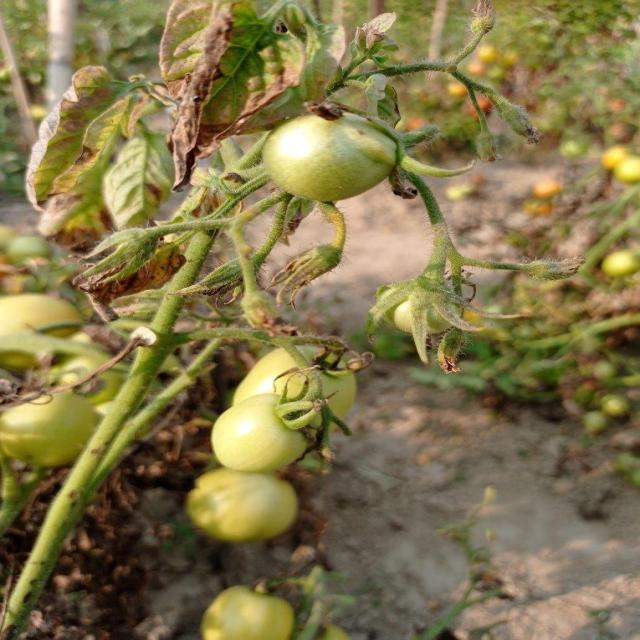Unripe: (261, 107, 405, 206), (208, 395, 315, 474)
